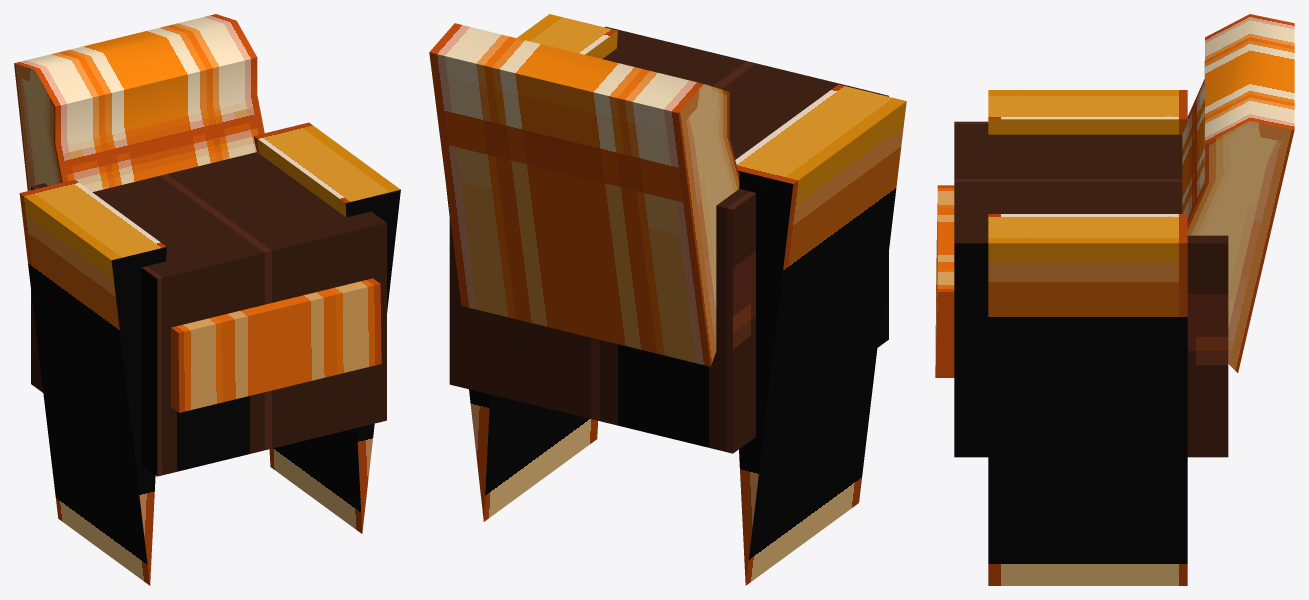
3 renders of one model, left to right at view 1: azimuth 30°, elevation 25°; view 2: azimuth 150°, elevation 25°; view 3: azimuth 270°, elevation 25°, orthographic. The views are drawn at different scales.
Visible parts, largest first — view 1: 3898kg3_gs00; view 2: 3898kg3_gs00; view 3: 3898kg3_gs00.
Boxes of the visible parts, <box> form: 3898kg3_gs00: <box>14,14,400,585</box>; 3898kg3_gs00: <box>429,14,906,585</box>; 3898kg3_gs00: <box>935,14,1294,585</box>.
Bounding box in the file's own units: 0.9146 × 1.29 × 0.9067.
Materials: 3 (3 with a texture image).
